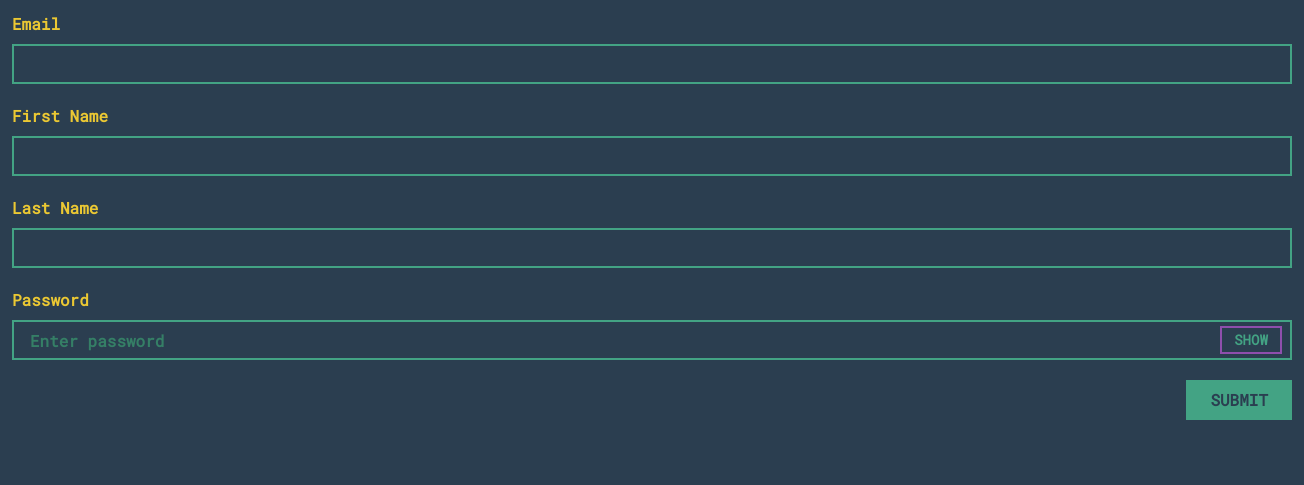
Test: RegisterForm - Field Errors › test password validator with invalid password
This screenshot has width=1304, height=485.
Type "pass1234" into the password field with test id "password-field" at (652, 340), box [12,320,1292,360]
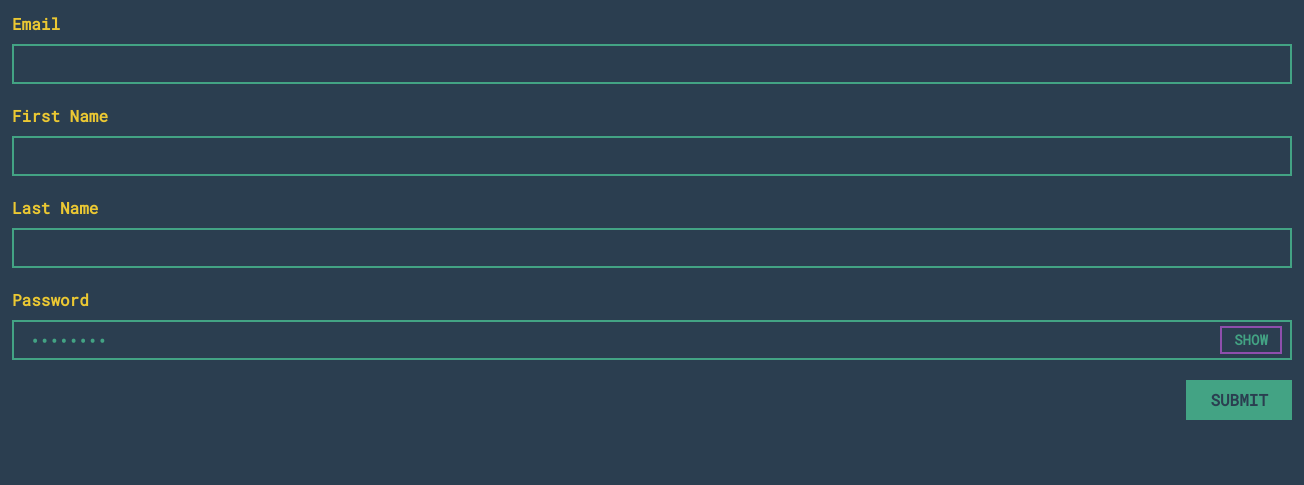
Press Tab
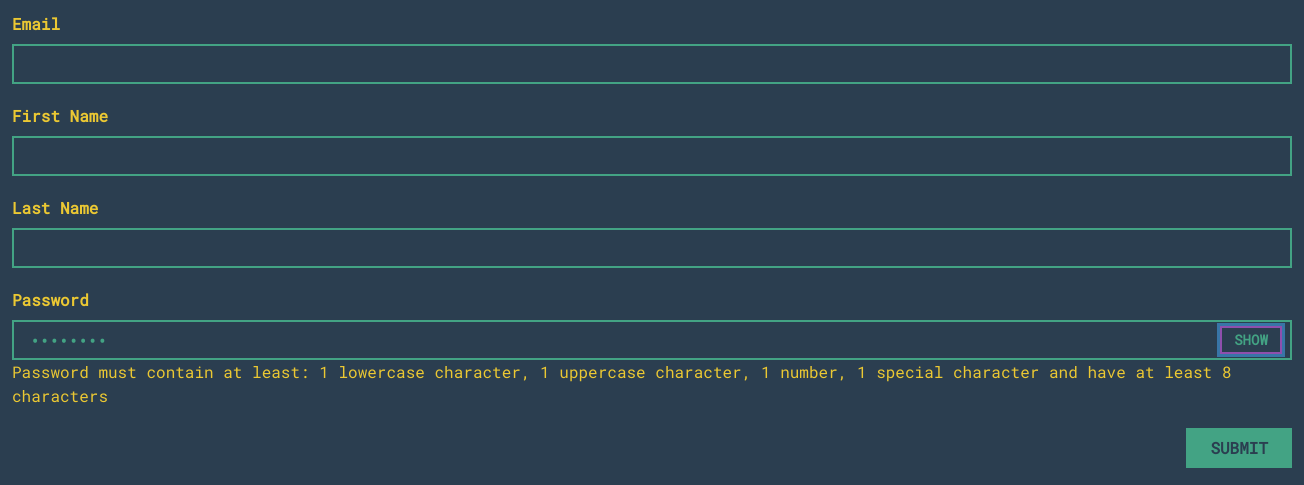
Now the text with test id "password-error" shows "Password must contain at least: 1 lowercase character, 1 uppercase character, 1 number, 1 special character and have at least 8 characters", box [12,361,1231,406]
